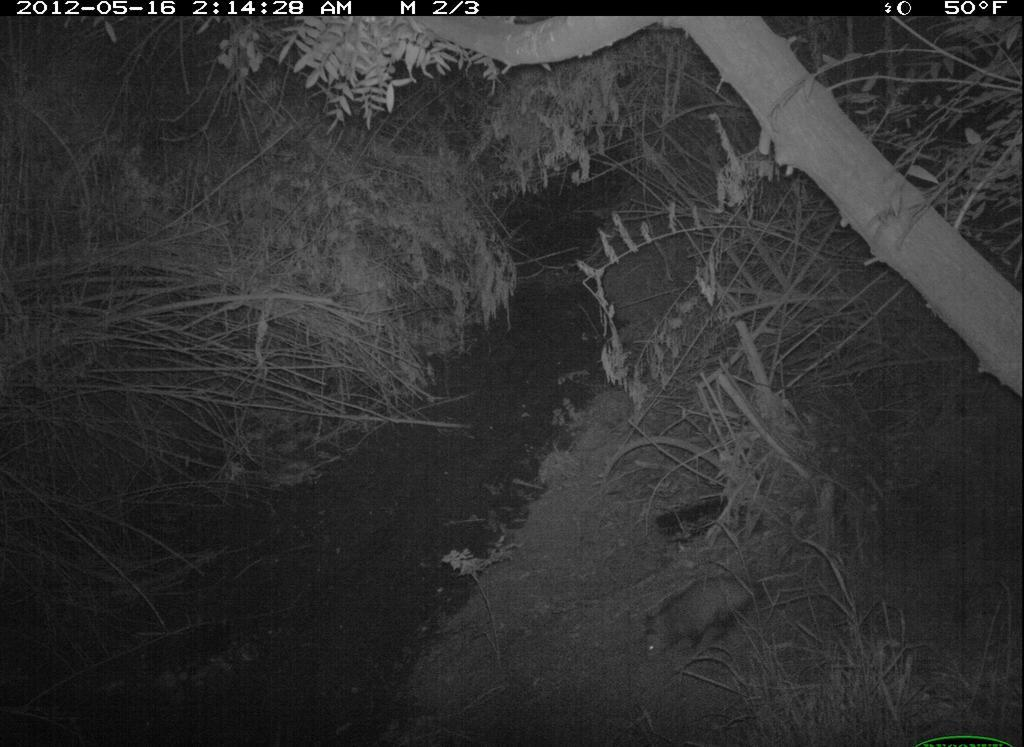opossum: (602, 560, 797, 690)
